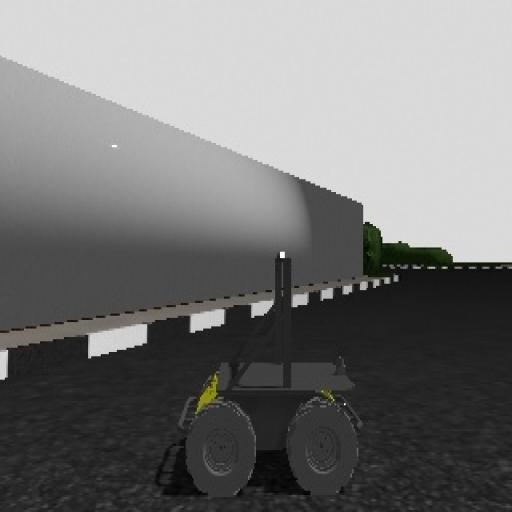huskya200: (160, 230, 366, 507)
